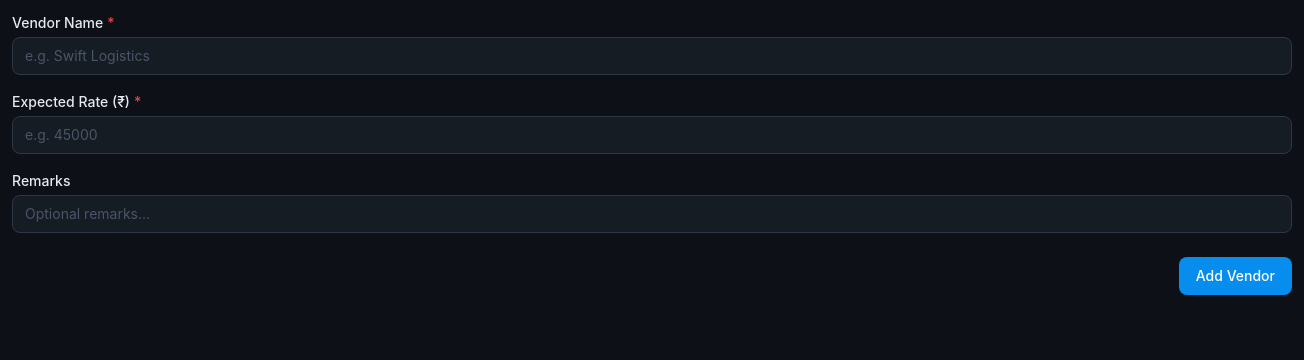
Scenario: AddVendorForm › shows Yup validation errors when submitted empty
This screenshot has width=1304, height=360.
Click the button "Add Vendor".
click(1235, 276)  # box [1179,257,1292,295]
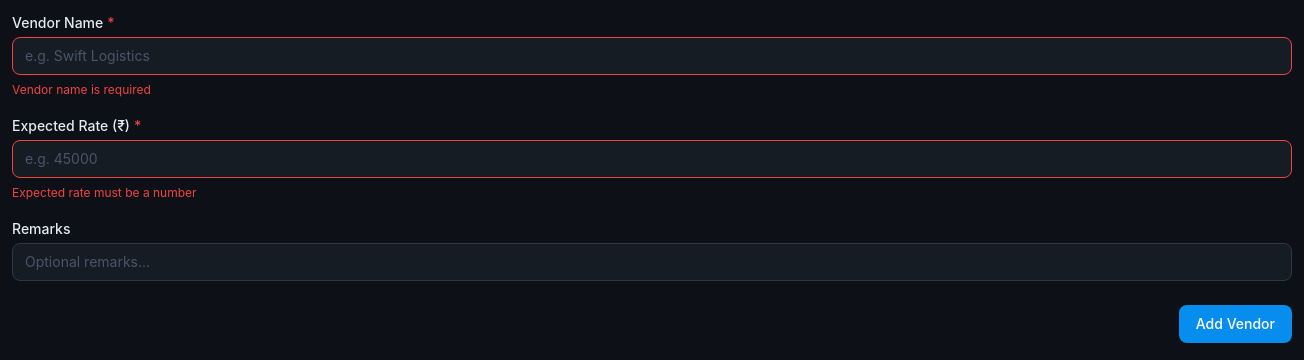
Result: the text "Vendor name is required" is shown at [12,82,151,97]
